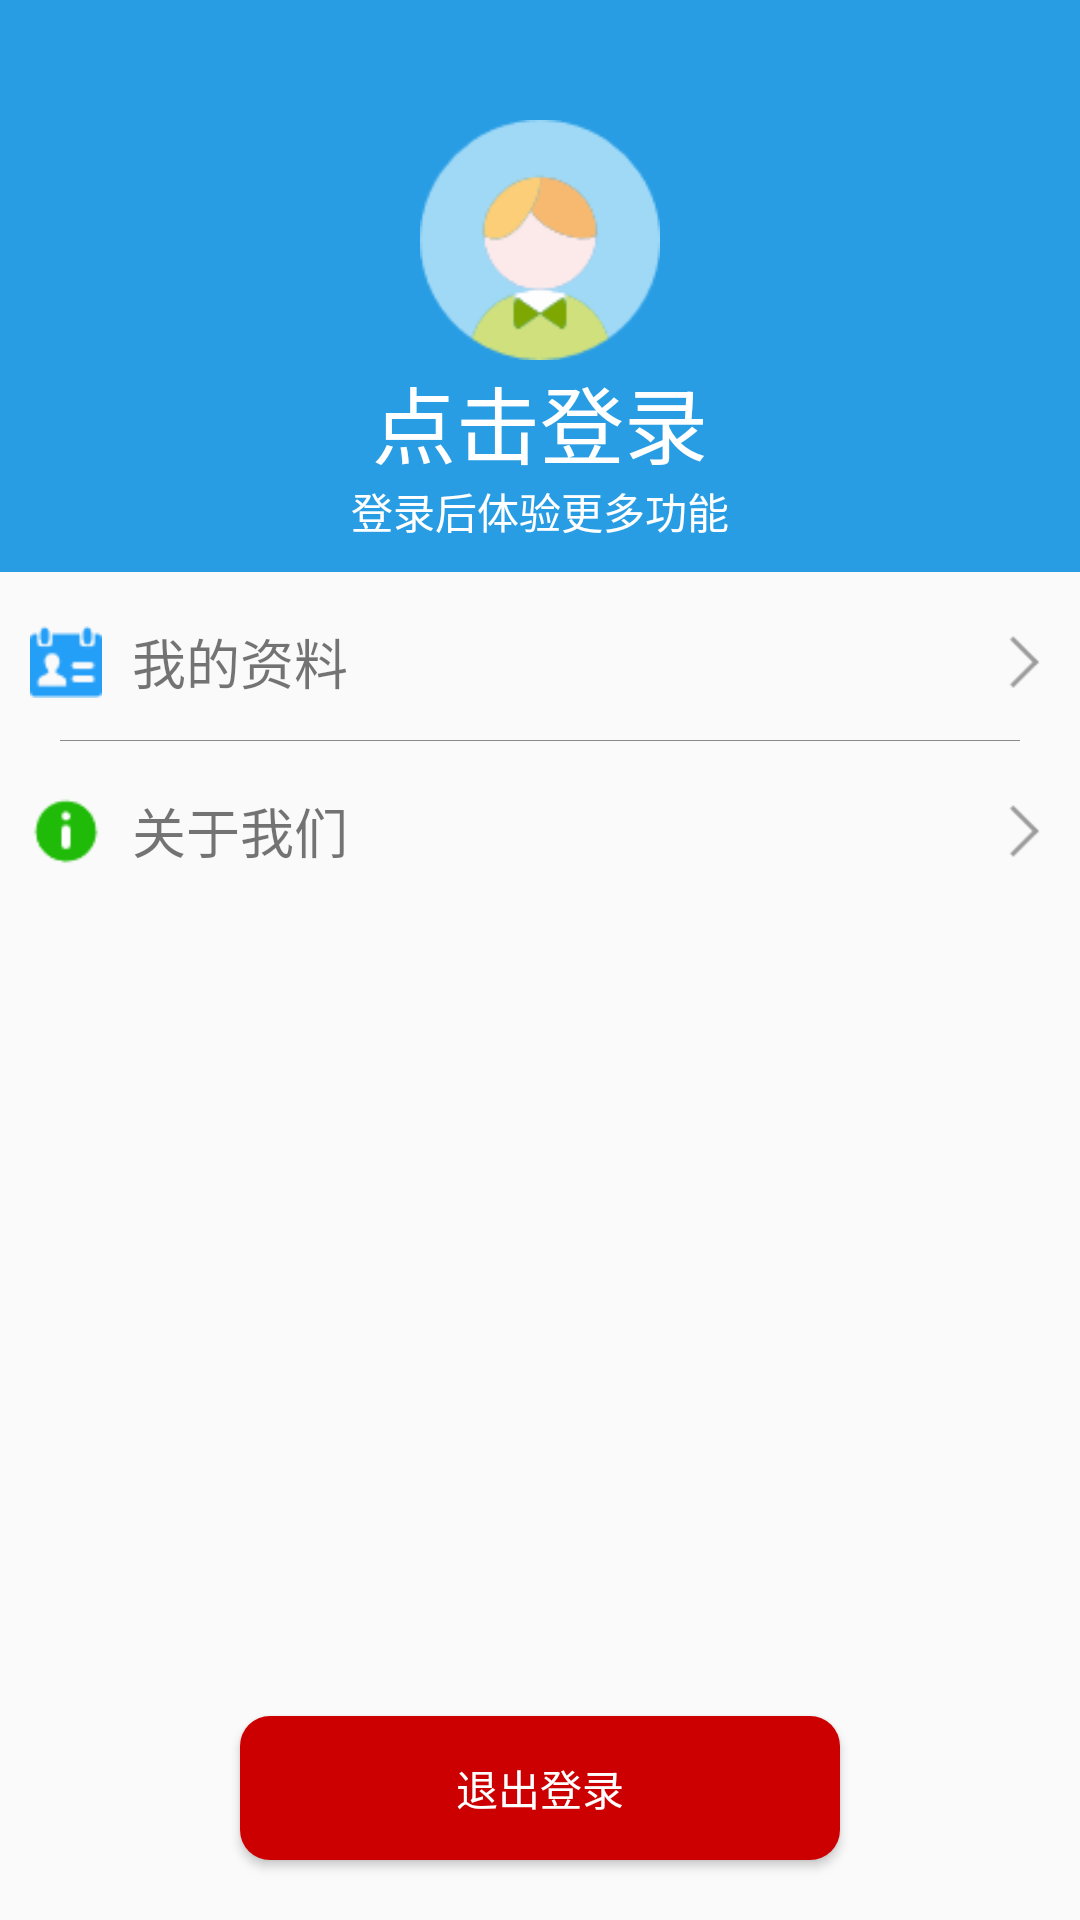

Named icons in this screenshot (1080x1920) and their centers, point (x, y):
gywm: point (66, 831)
open: point (1024, 662), point (1024, 831)
portrait: point (540, 240)
